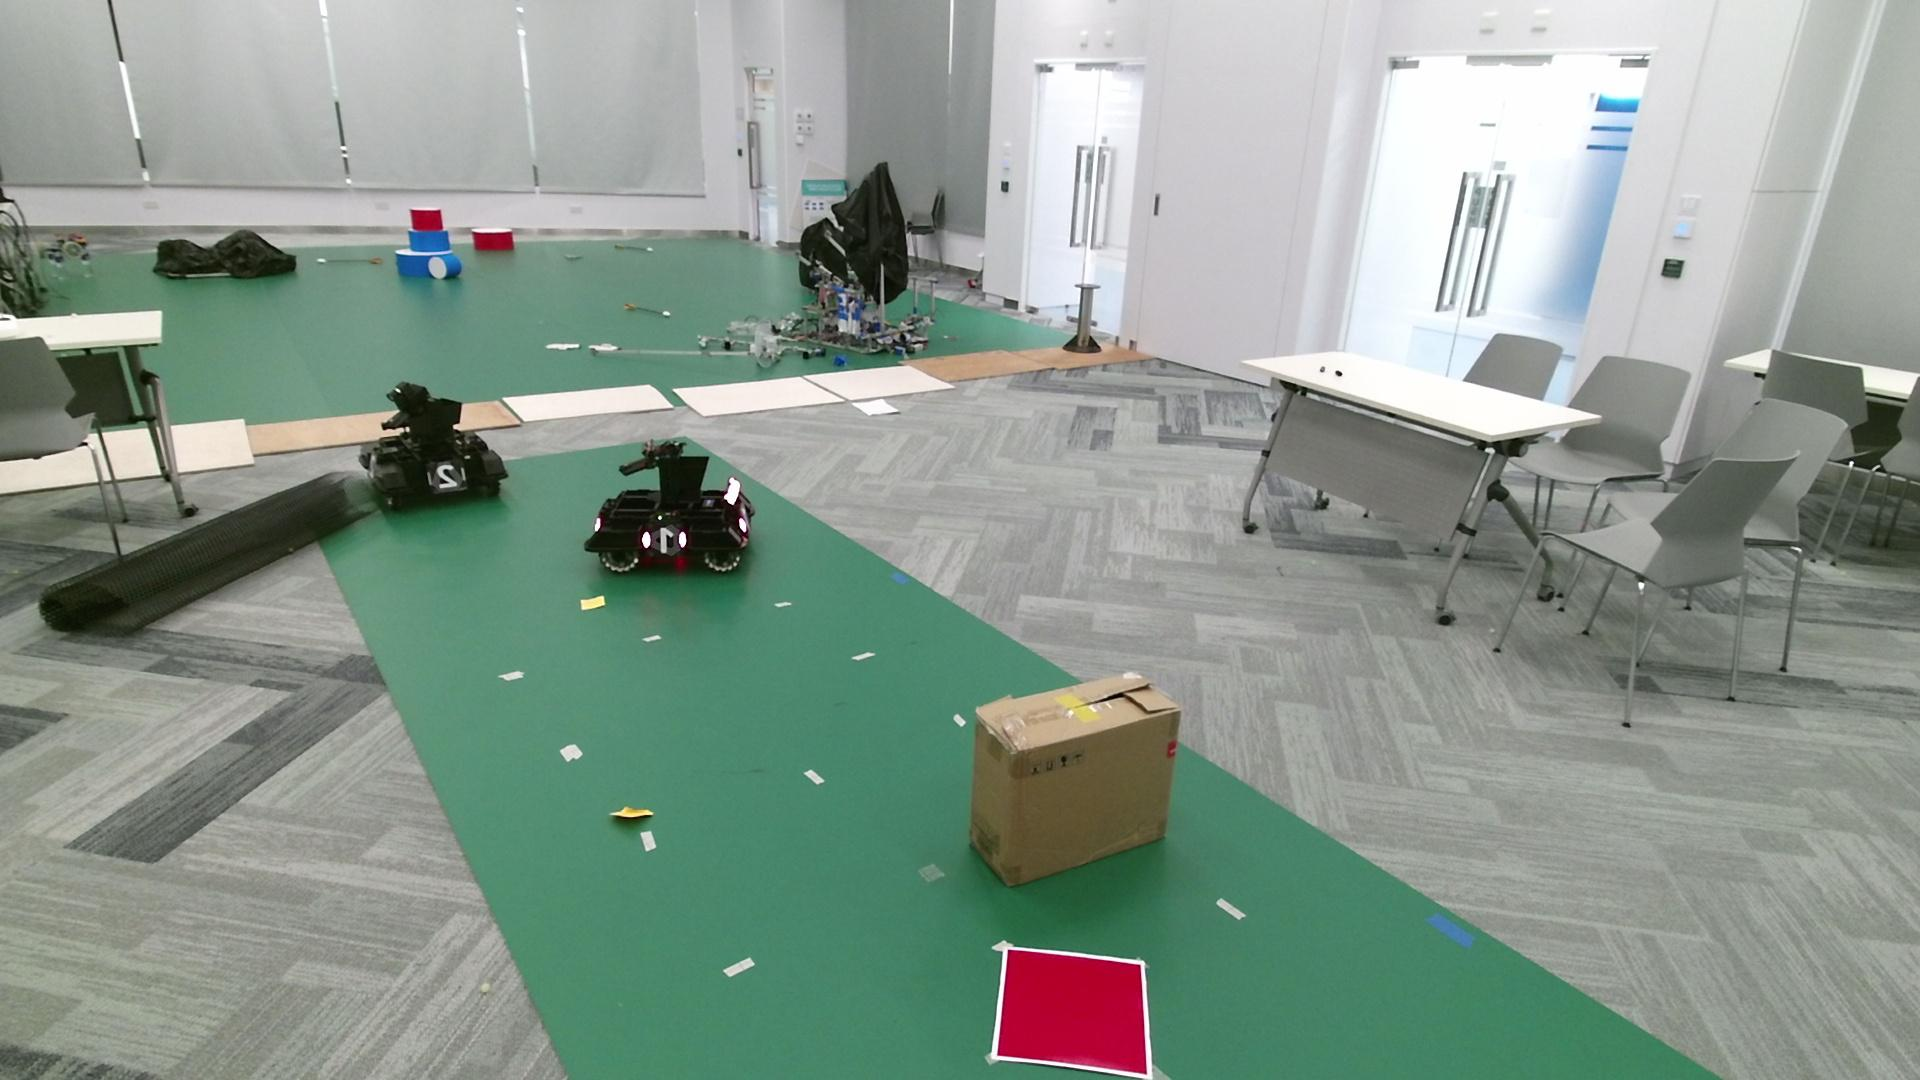robot: (584, 435, 756, 575), (357, 381, 509, 510)
